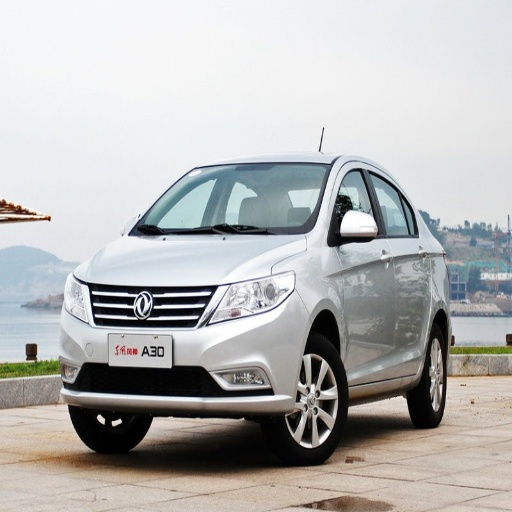front_bumper: (61, 282, 310, 417)
front_glass: (128, 163, 331, 234)
front_left_door: (330, 162, 396, 384)
